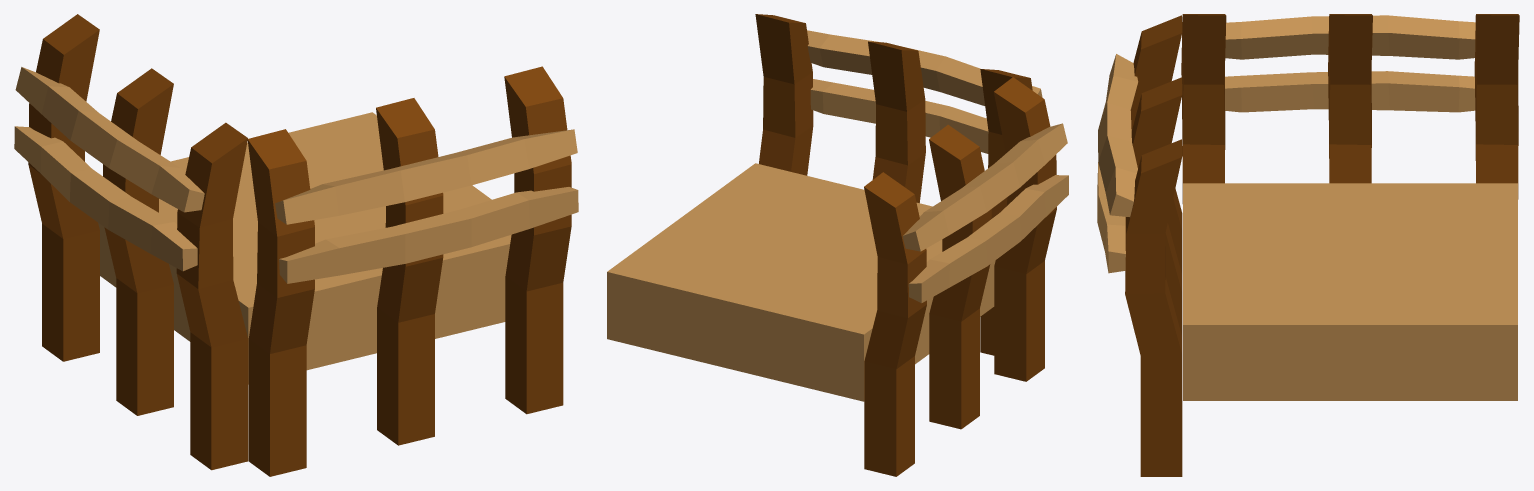
File: kopru1Kose.fbx
3 views of the same model, side by side, from view 1: azimuth 30°, elevation 25°; view 2: azimuth 150°, elevation 25°; view 3: azimuth 270°, elevation 25° (orthographic). The views are drawn at different scales.
Visible parts, largest first — view 1: Köprü1 Köşe; view 2: Köprü1 Köşe; view 3: Köprü1 Köşe.
Part boxes in pixels (x1=…): Köprü1 Köşe: x1=14, y1=14, x2=578, y2=476; Köprü1 Köşe: x1=607, y1=14, x2=1068, y2=476; Köprü1 Köşe: x1=1097, y1=14, x2=1519, y2=476.
Bounding box in the file's own units: 252 × 211 × 252.
